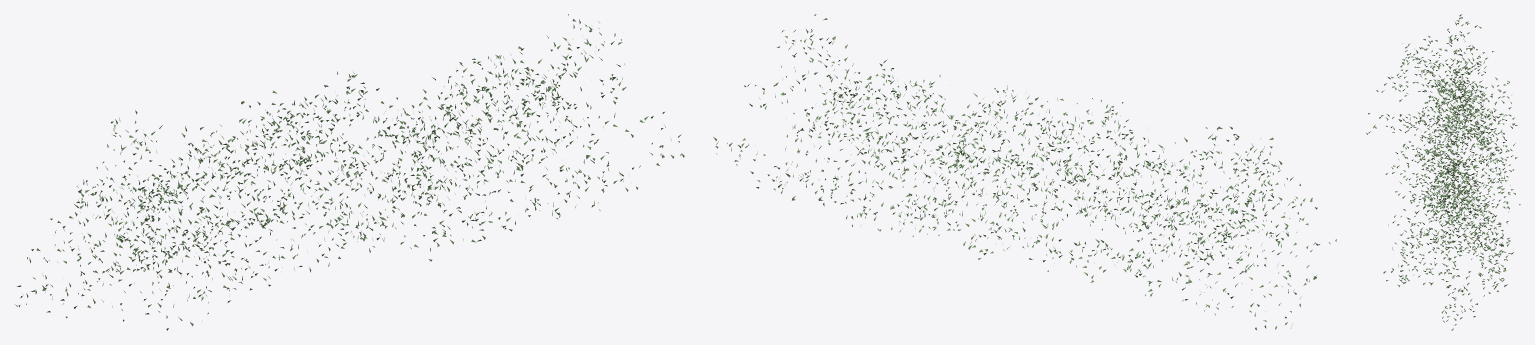
Rendered from xiyuan-vegetation-26-far.glb.
3 renders of one model, left to right at view 1: azimuth 30°, elevation 25°; view 2: azimuth 150°, elevation 25°; view 3: azimuth 270°, elevation 25°, orthographic. The views are drawn at different scales.
Visible parts, largest first — view 1: vegetation cedar leaves.001; view 2: vegetation cedar leaves.001; view 3: vegetation cedar leaves.001.
Boxes of the visible parts, x1,y1,x2,y2 form: vegetation cedar leaves.001: [15, 14, 684, 330]; vegetation cedar leaves.001: [713, 14, 1336, 329]; vegetation cedar leaves.001: [1366, 14, 1520, 330].
Bounding box in the file's own units: 38.29 × 11.18 × 11.21.
